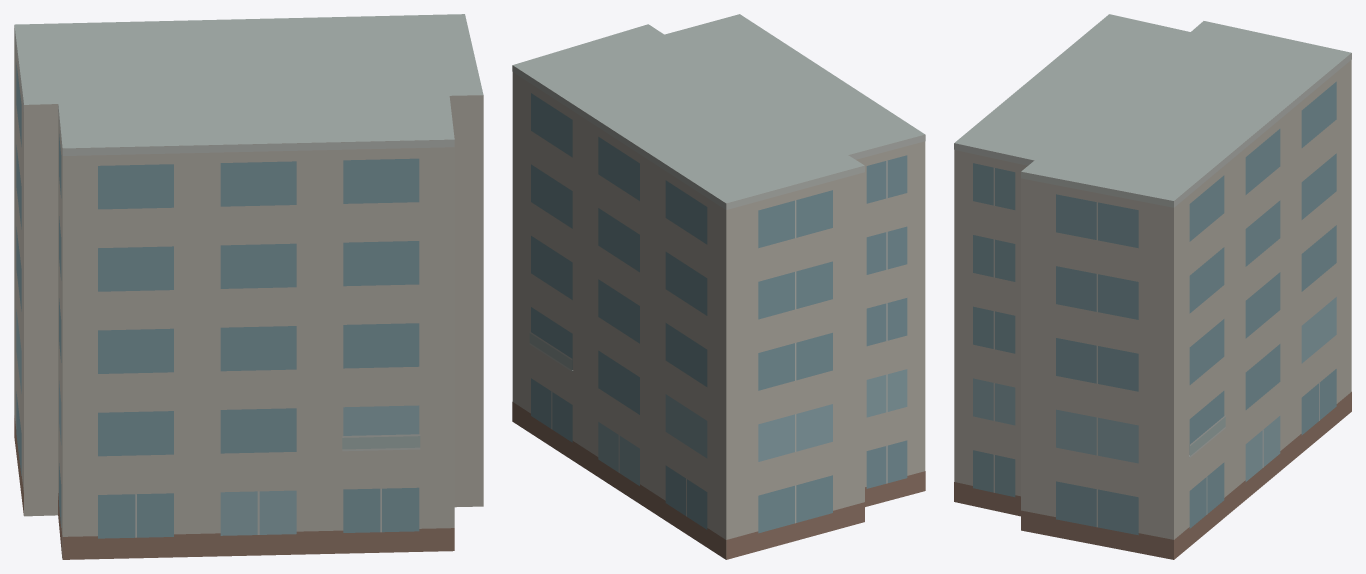
File: survey-upis-32893917.glb
The picture shows the model from 3 angles, left to right: view 1: azimuth 30°, elevation 25°; view 2: azimuth 150°, elevation 25°; view 3: azimuth 270°, elevation 25°; orthographic projection. The views are drawn at different scales.
Visible parts, largest first — view 1: survey-upis-32893917.tmp; view 2: survey-upis-32893917.tmp; view 3: survey-upis-32893917.tmp.
Part boxes in pixels (x1=…): survey-upis-32893917.tmp: x1=14, y1=14, x2=483, y2=559; survey-upis-32893917.tmp: x1=512, y1=14, x2=925, y2=559; survey-upis-32893917.tmp: x1=954, y1=14, x2=1351, y2=559.
Bounding box in the file's own units: 14.54 × 13 × 13.07.
